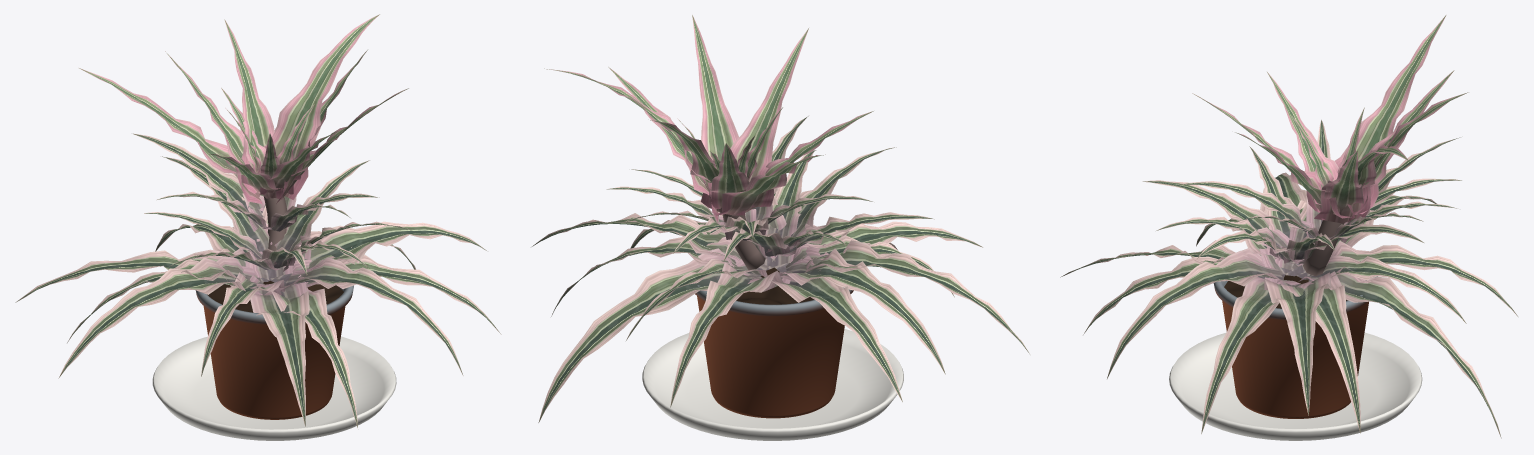
File: cryptanthus-CmdmQC9R.glb
3 renders of one model, left to right at view 1: azimuth 30°, elevation 25°; view 2: azimuth 150°, elevation 25°; view 3: azimuth 270°, elevation 25°, orthographic. The views are drawn at different scales.
Visible parts, largest first — view 1: saucer, pot, leaf_top_00, leaf_low_04, leaf_low_07, leaf_low_00, leaf_low_10, leaf_low_02, leaf_top_01, leaf_top_03, leaf_low_01, leaf_low_05 (+21 smaller); view 2: pot, saucer, leaf_low_03, leaf_low_09, leaf_low_01, leaf_low_04, leaf_low_06, leaf_top_02, leaf_top_07, leaf_low_00, leaf_low_07, leaf_top_01 (+19 smaller); view 3: saucer, pot, leaf_low_10, leaf_low_03, leaf_low_05, leaf_low_00, leaf_low_08, leaf_top_01, leaf_low_06, leaf_low_11, leaf_top_00, leaf_mid_04 (+23 smaller).
Part boxes in pixels (<box>): saucer: <box>152,336,396,440</box>; pot: <box>195,285,353,419</box>; leaf_top_00: <box>263,14,379,199</box>; leaf_low_04: <box>58,257,281,378</box>; leaf_low_07: <box>250,282,309,426</box>; leaf_low_00: <box>275,221,486,285</box>; leaf_low_10: <box>275,257,463,375</box>; leaf_low_02: <box>264,275,357,427</box>; leaf_top_01: <box>79,68,262,203</box>; leaf_top_03: <box>224,19,274,191</box>; leaf_low_01: <box>15,249,263,302</box>; leaf_low_05: <box>285,254,501,334</box>; pot: <box>695,285,853,418</box>; saucer: <box>642,329,903,440</box>; leaf_low_03: <box>538,248,760,422</box>; leaf_low_09: <box>778,248,945,374</box>; leaf_low_01: <box>753,270,902,401</box>; leaf_low_04: <box>780,240,1029,353</box>; leaf_low_06: <box>670,262,790,407</box>; leaf_top_02: <box>692,15,738,160</box>; leaf_top_07: <box>730,28,808,181</box>; leaf_low_00: <box>532,213,777,276</box>; leaf_low_07: <box>770,221,982,271</box>; leaf_top_01: <box>711,154,825,216</box>; saucer: <box>1169,332,1422,440</box>; pot: <box>1213,276,1377,418</box>; leaf_low_10: <box>1107,250,1300,378</box>; leaf_low_03: <box>1306,273,1501,438</box>; leaf_low_05: <box>1201,277,1312,433</box>; leaf_low_00: <box>1264,272,1330,415</box>; leaf_low_08: <box>1272,271,1360,433</box>; leaf_top_01: <box>1335,15,1446,214</box>; leaf_low_06: <box>1307,241,1517,316</box>; leaf_low_11: <box>1298,255,1466,323</box>; leaf_top_00: <box>1314,145,1408,223</box>; leaf_mid_04: <box>1142,180,1290,260</box>.
Bounding box in the file's own units: 0.246 × 0.1657 × 0.2106.
6 materials, 2 textured.
